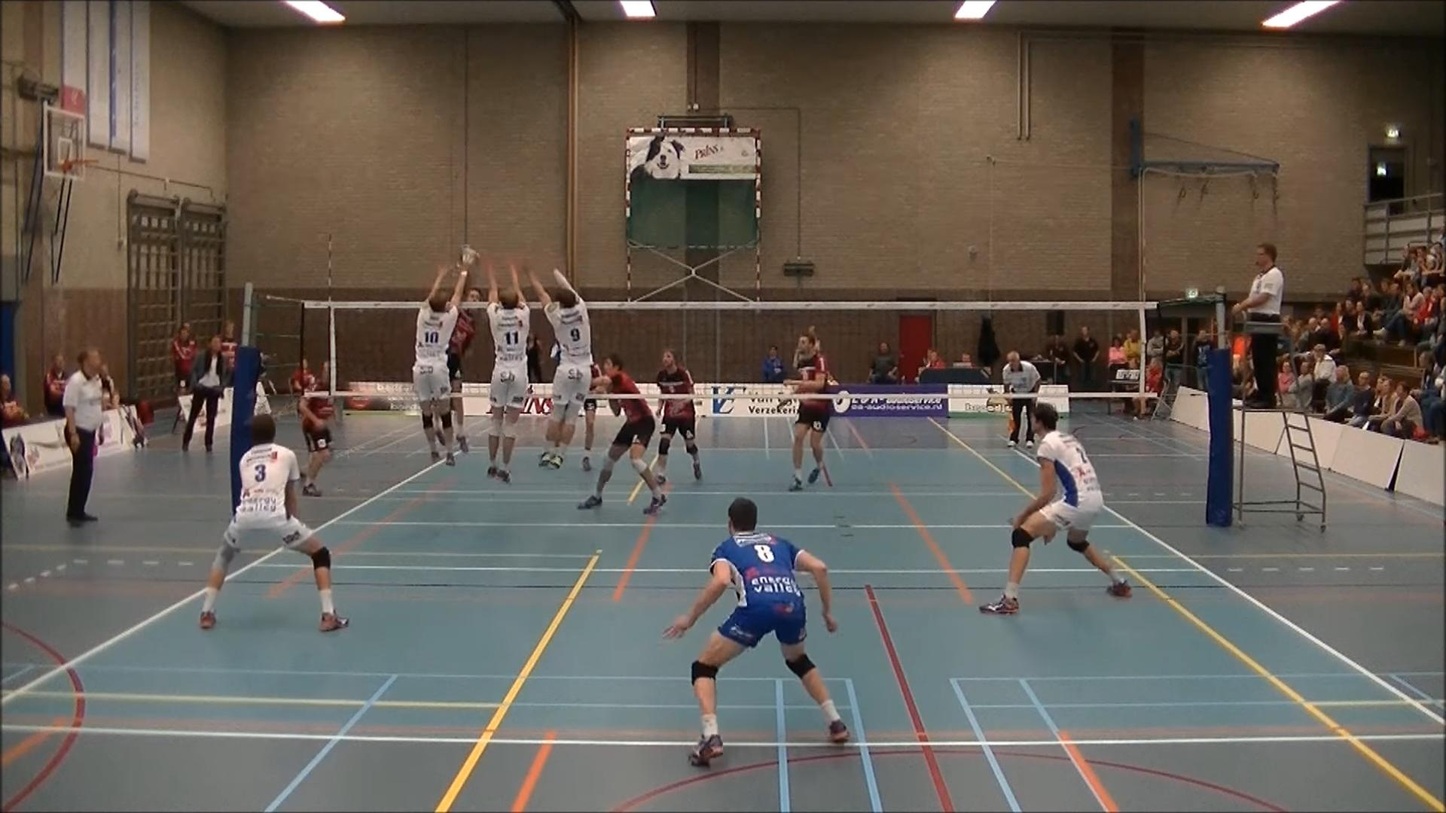Attack: (438, 275, 484, 449)
Block: (523, 261, 597, 474), (472, 261, 538, 488), (402, 258, 473, 468)
Player: (664, 498, 849, 766), (200, 415, 349, 632), (981, 403, 1130, 614), (578, 355, 666, 515), (785, 327, 832, 491), (653, 397, 701, 483), (581, 364, 604, 471), (581, 385, 601, 471)
ball: (453, 243, 483, 273)
